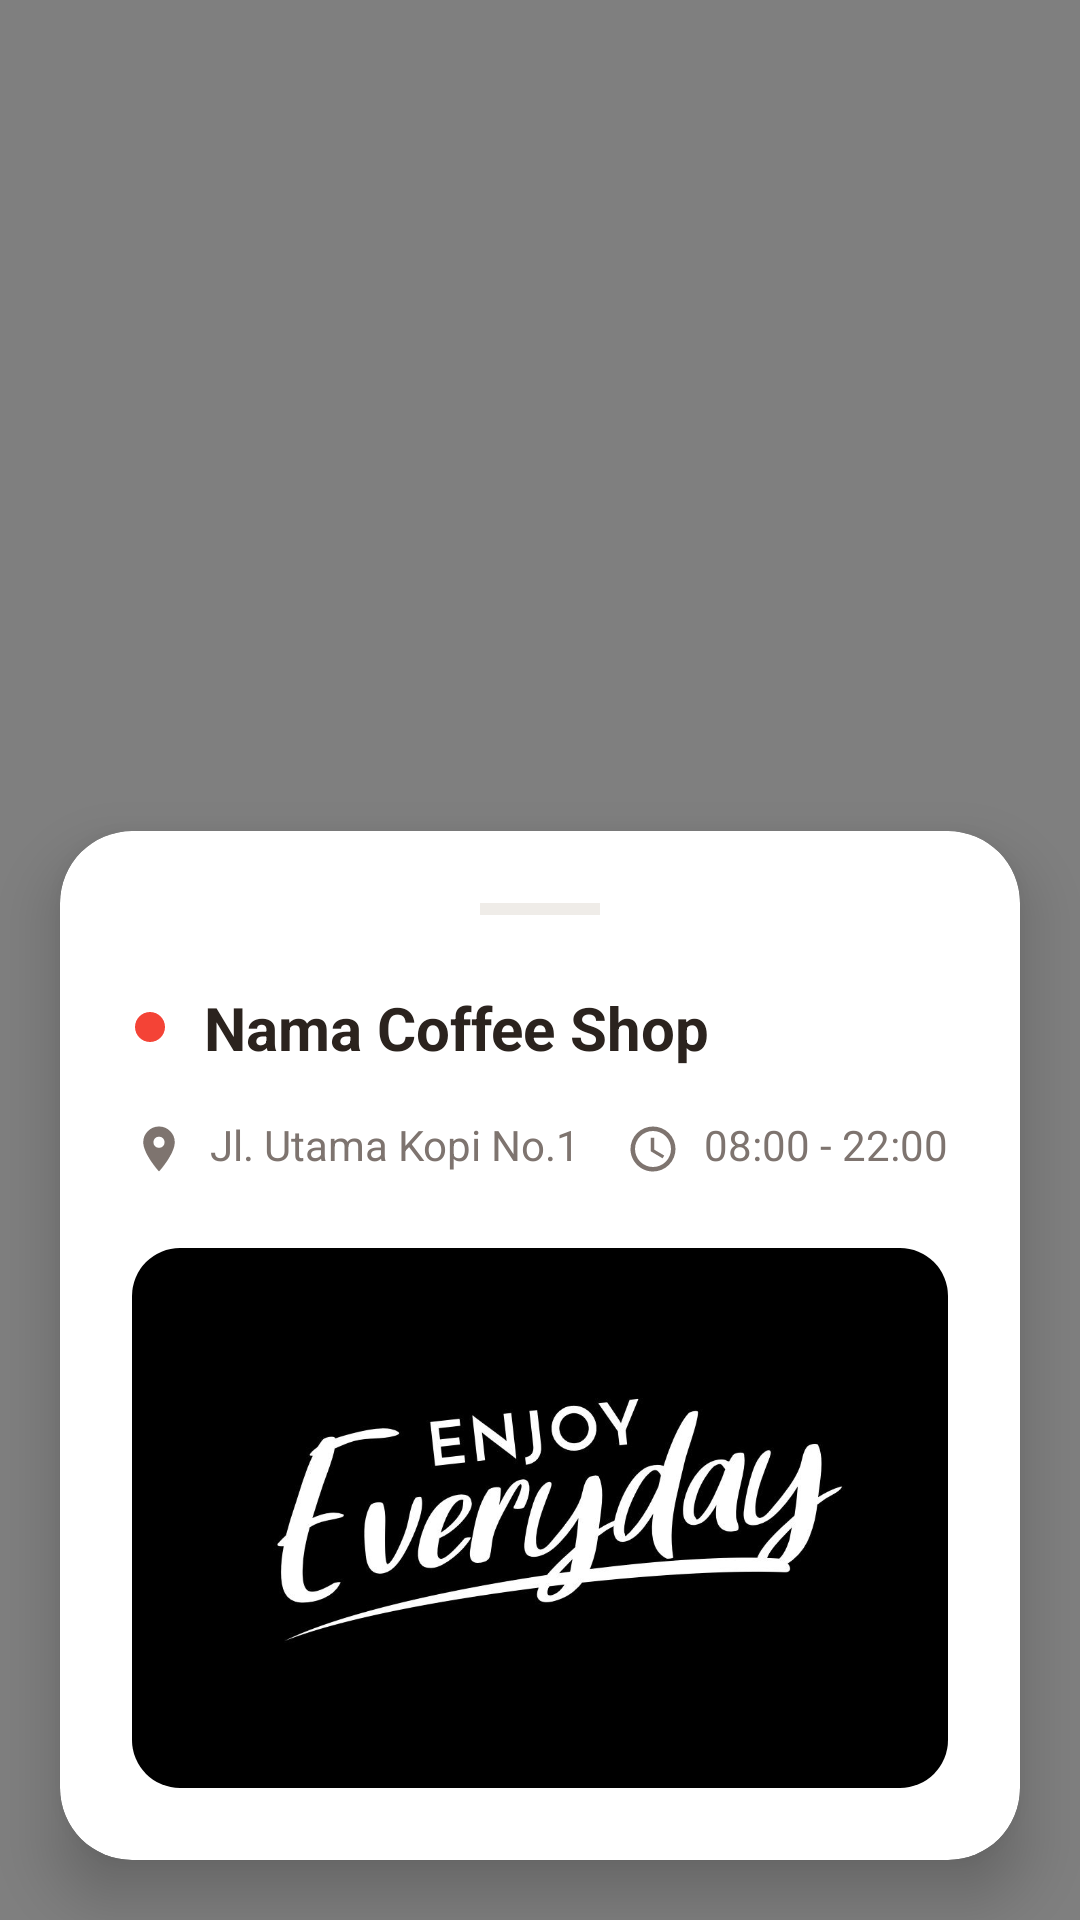

Screen size 1080w x 1920h. Icon name, then its box in pixels as (x1, y1, x2, y2):
access time: (630, 1126, 676, 1172)
location on: (143, 1126, 175, 1171)
